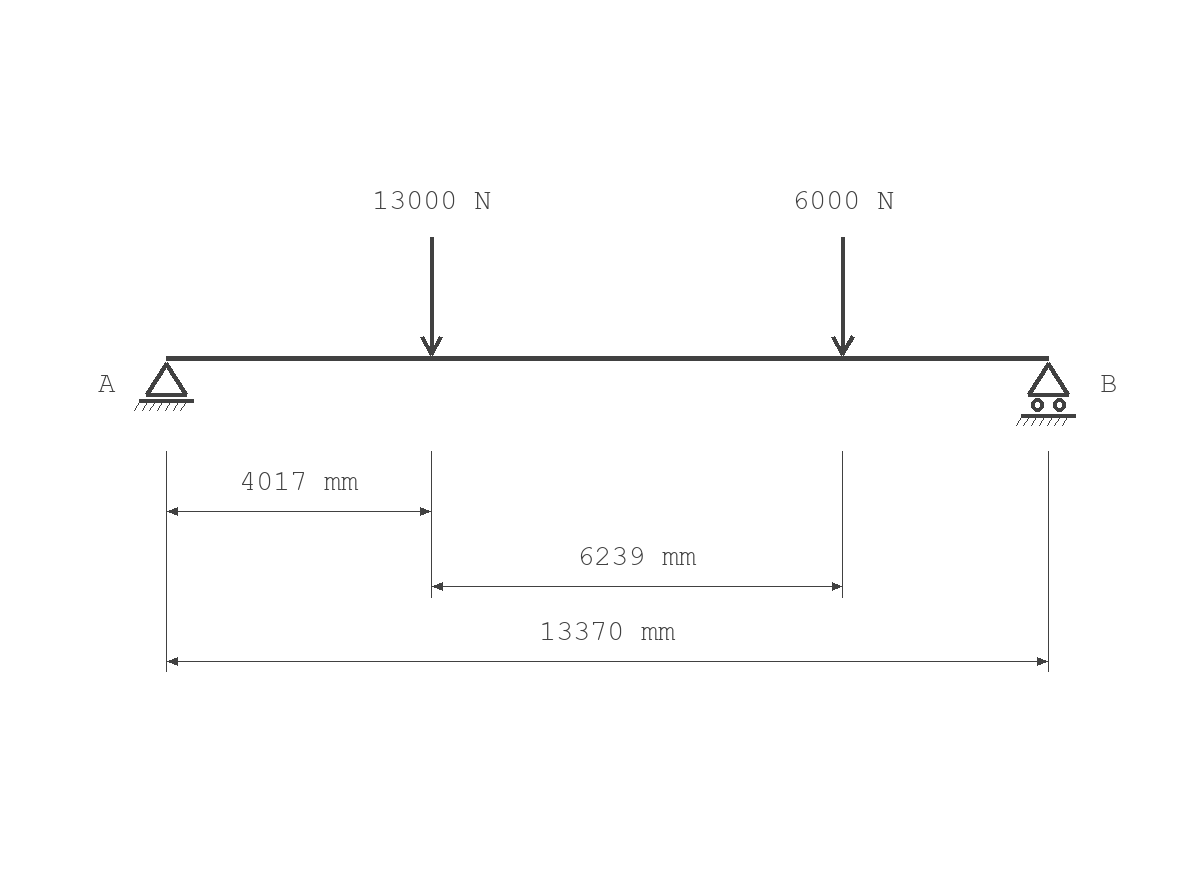pin_support: (134, 362, 194, 411)
point_load: (831, 237, 855, 356), (420, 237, 443, 356)
roller_support: (1016, 362, 1076, 426)
